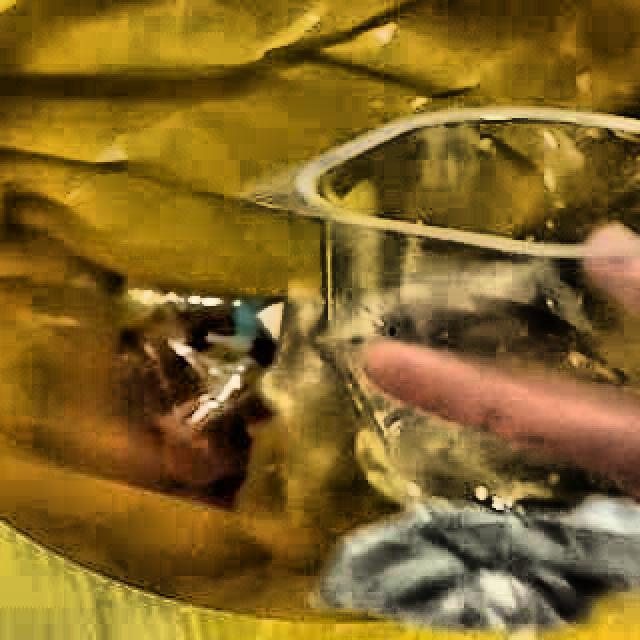plastic: (299, 108, 640, 505)
